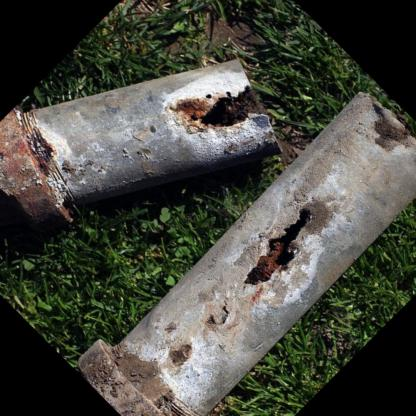burst: (231, 205, 341, 302), (180, 85, 269, 135)
